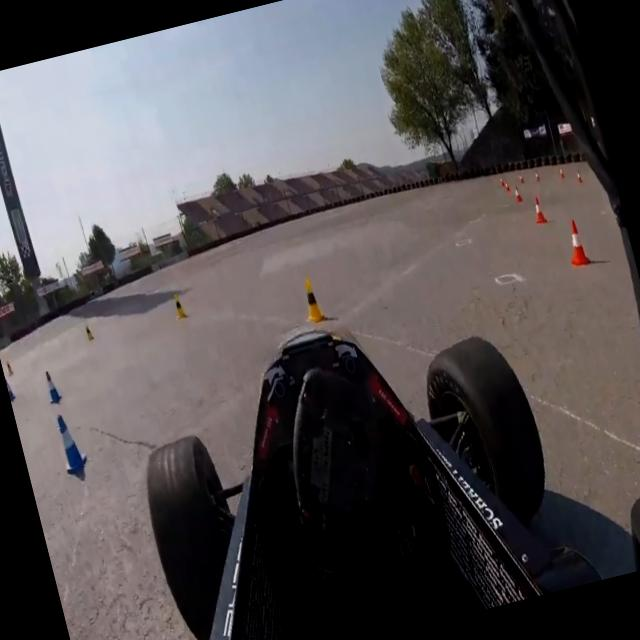blue_cone: (50, 411, 91, 476), (40, 368, 62, 403), (4, 374, 17, 403)
orange_cone: (560, 215, 592, 269), (528, 194, 548, 226), (512, 182, 524, 204), (502, 178, 510, 194), (575, 168, 583, 183), (558, 167, 566, 179), (498, 175, 506, 187), (518, 172, 525, 185), (534, 170, 541, 182)
yellow_cone: (296, 274, 328, 328), (170, 291, 190, 321), (82, 322, 96, 342), (2, 357, 15, 377)
